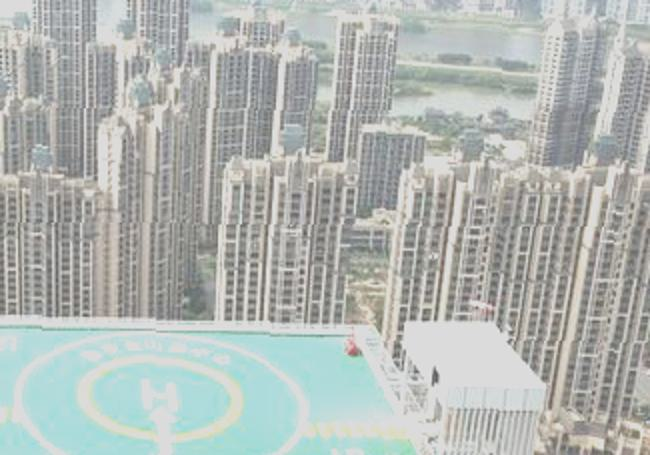Apron: (76, 339, 260, 451)
